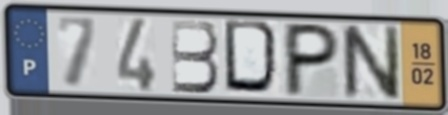4: (114, 14, 159, 95)
7: (55, 14, 100, 90)
B: (168, 18, 222, 95)
D: (221, 17, 285, 99)
N: (337, 23, 403, 103)
P: (281, 20, 343, 100)
